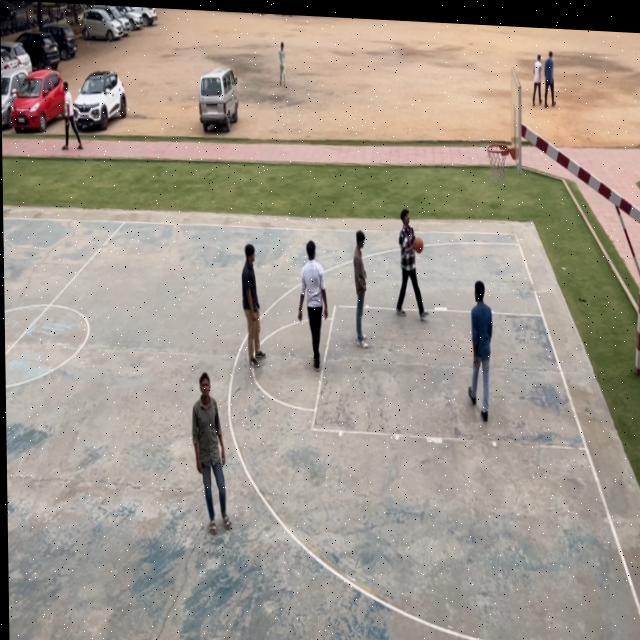basketball: (413, 235, 425, 256)
hoop: (484, 139, 508, 186)
